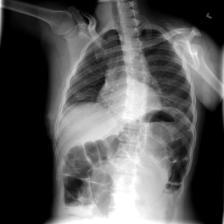normal: (54, 21, 196, 209)
